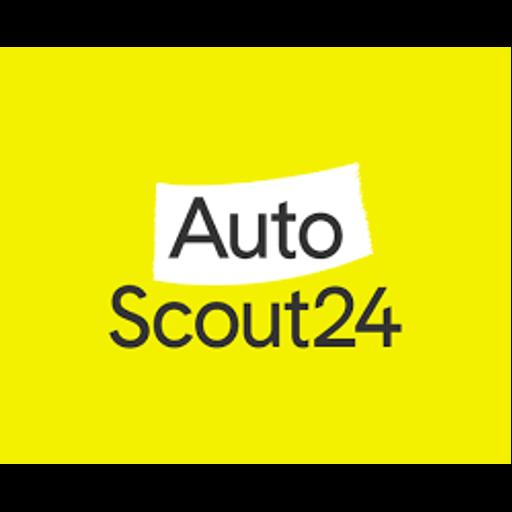AutoScout24: (0, 47, 511, 464)
